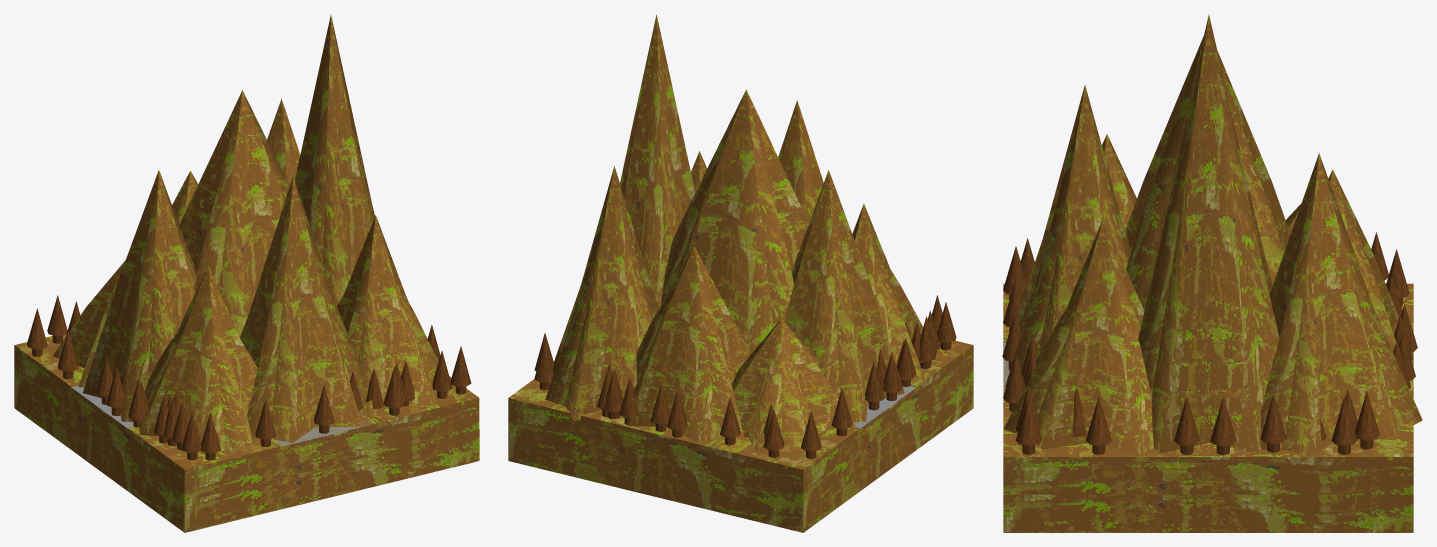
Rendered from piezas de terreno.FBX.
3 renders of one model, left to right at view 1: azimuth 30°, elevation 25°; view 2: azimuth 150°, elevation 25°; view 3: azimuth 270°, elevation 25°, orthographic. The views are drawn at different scales.
Parts seen in each view (by area): view 1: montañas, montañas esquina, foso esquina, Object002, llano, foso, foso fin, bosque, montaña borde, bosquecillo; view 2: montañas, foso esquina, montañas esquina, llano, montaña borde; view 3: montañas esquina, montañas, foso esquina, Object002, foso fin, llano, montaña borde, foso, bosque.
Part boxes in pixels (x1=…): montañas: x1=27, y1=90, x2=471, y2=460; montañas esquina: x1=121, y1=15, x2=405, y2=460; foso esquina: x1=14, y1=334, x2=479, y2=527; Object002: x1=194, y1=429, x2=479, y2=529; llano: x1=20, y1=385, x2=478, y2=532; foso: x1=71, y1=387, x2=475, y2=532; foso fin: x1=14, y1=387, x2=380, y2=532; bosque: x1=132, y1=363, x2=405, y2=425; montaña borde: x1=343, y1=291, x2=407, y2=418; bosquecillo: x1=66, y1=301, x2=414, y2=406; montañas: x1=534, y1=89, x2=942, y2=458; foso esquina: x1=508, y1=340, x2=973, y2=532; montañas esquina: x1=545, y1=15, x2=956, y2=420; llano: x1=585, y1=372, x2=973, y2=532; montaña borde: x1=614, y1=371, x2=639, y2=425; montañas esquina: x1=1020, y1=14, x2=1422, y2=461; montañas: x1=1002, y1=36, x2=1417, y2=460; foso esquina: x1=1003, y1=283, x2=1413, y2=494; Object002: x1=1003, y1=494, x2=1413, y2=532; foso fin: x1=1003, y1=367, x2=1227, y2=532; llano: x1=1003, y1=342, x2=1412, y2=532; montaña borde: x1=1021, y1=309, x2=1415, y2=380; foso: x1=1003, y1=343, x2=1412, y2=532; bosque: x1=1023, y1=349, x2=1357, y2=437.
Bounding box in the file's own units: 20.3 × 20.52 × 25.95.
